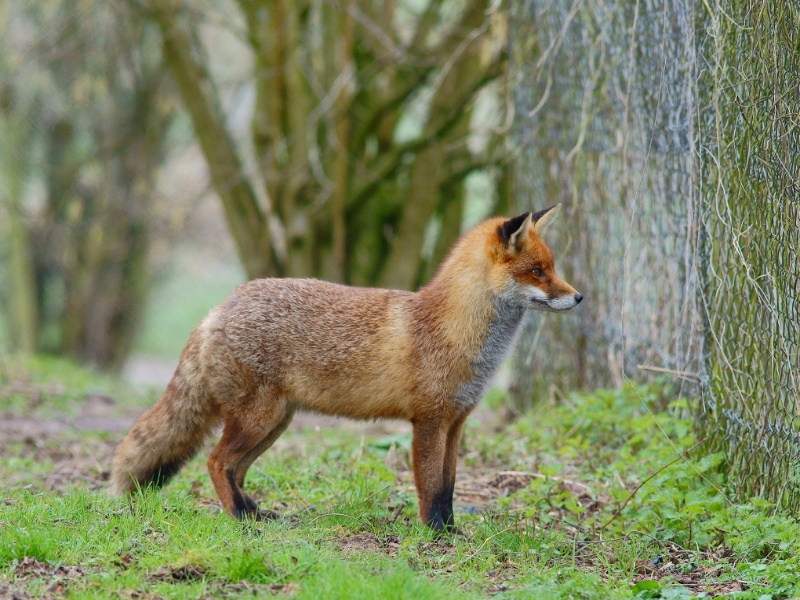fox: (105, 200, 583, 548)
